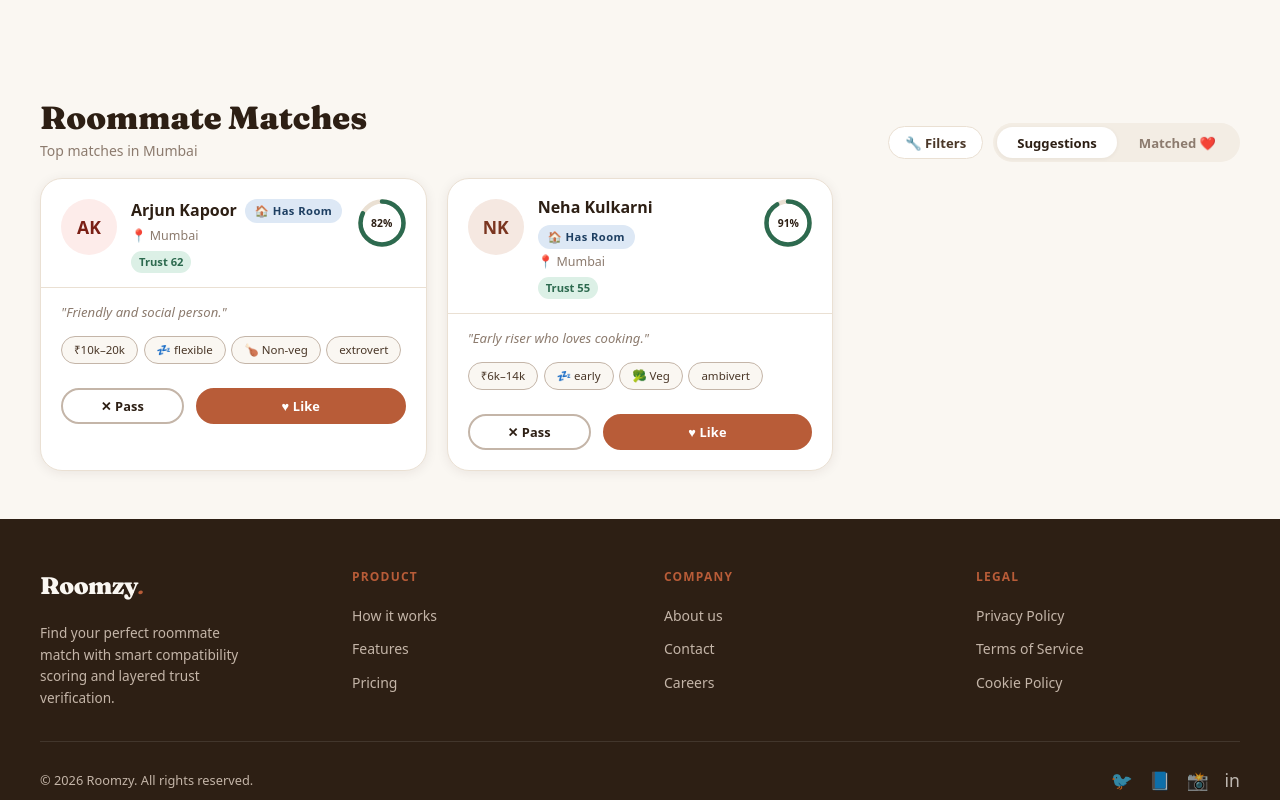
Scenario: Matches page › clicking Pass removes card from list
The image size is (1280, 800).
Check: the heading "Arjun Kapoor" is shown, box [131, 202, 237, 220]
Click the button "✕ Pass" below "₹10k–20k": (122, 406) [61, 388, 184, 424]
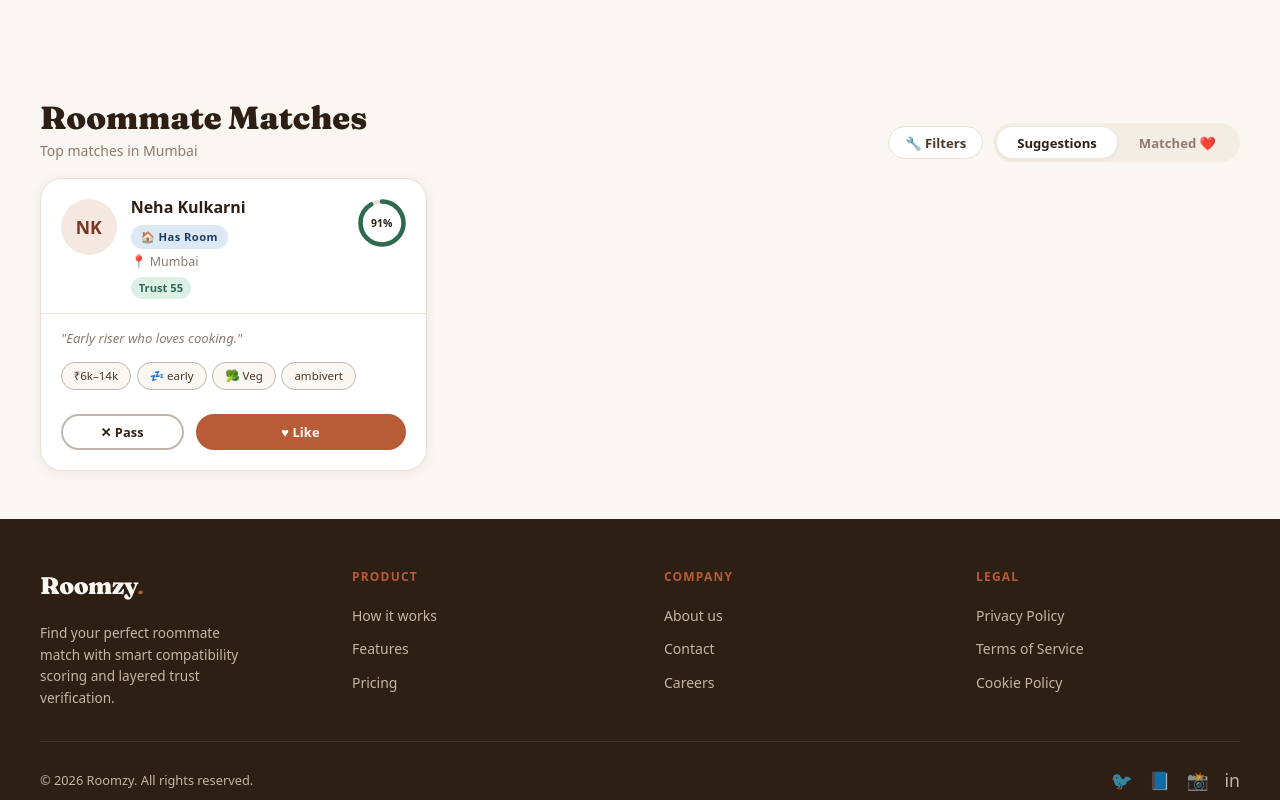
Check: the heading "Arjun Kapoor" is gone
